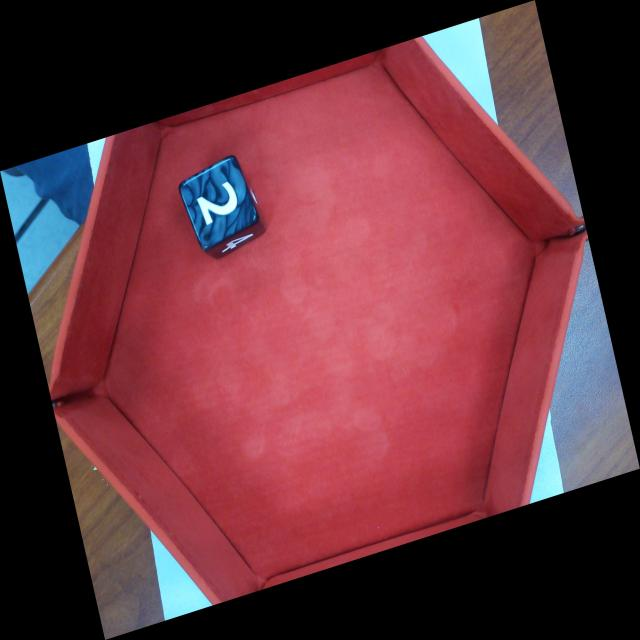dice: (178, 155, 261, 249)
